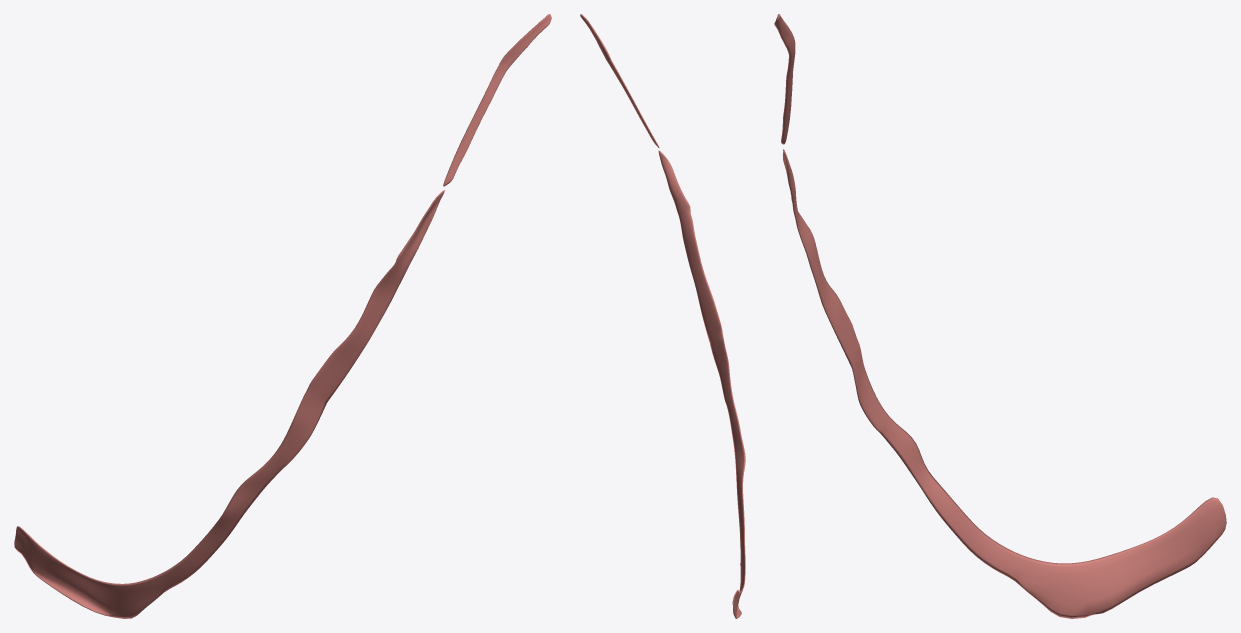
3 renders of one model, left to right at view 1: azimuth 30°, elevation 25°; view 2: azimuth 150°, elevation 25°; view 3: azimuth 270°, elevation 25°, orthographic. The views are drawn at different scales.
Parts seen in each view (by area): view 1: ZA_eb64de763cc72627; view 2: ZA_eb64de763cc72627; view 3: ZA_eb64de763cc72627.
Part boxes in pixels (x1=…): ZA_eb64de763cc72627: x1=14, y1=14, x2=551, y2=618; ZA_eb64de763cc72627: x1=580, y1=14, x2=745, y2=618; ZA_eb64de763cc72627: x1=774, y1=14, x2=1226, y2=618.
Size of the model in its own units: 0.1091 by 0.1723 by 0.0871.
